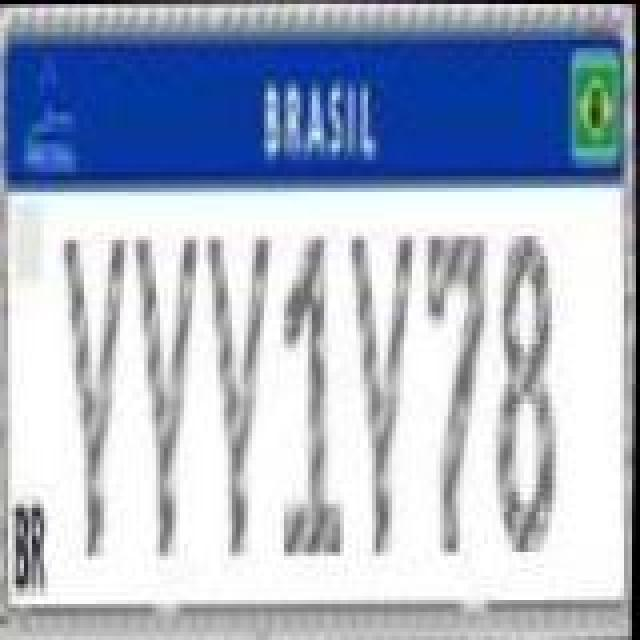1: (276, 232, 352, 556)
7: (422, 226, 494, 550)
8: (490, 224, 562, 560)
Y: (200, 224, 276, 560), (60, 234, 136, 558), (132, 234, 208, 558), (350, 226, 422, 550)
